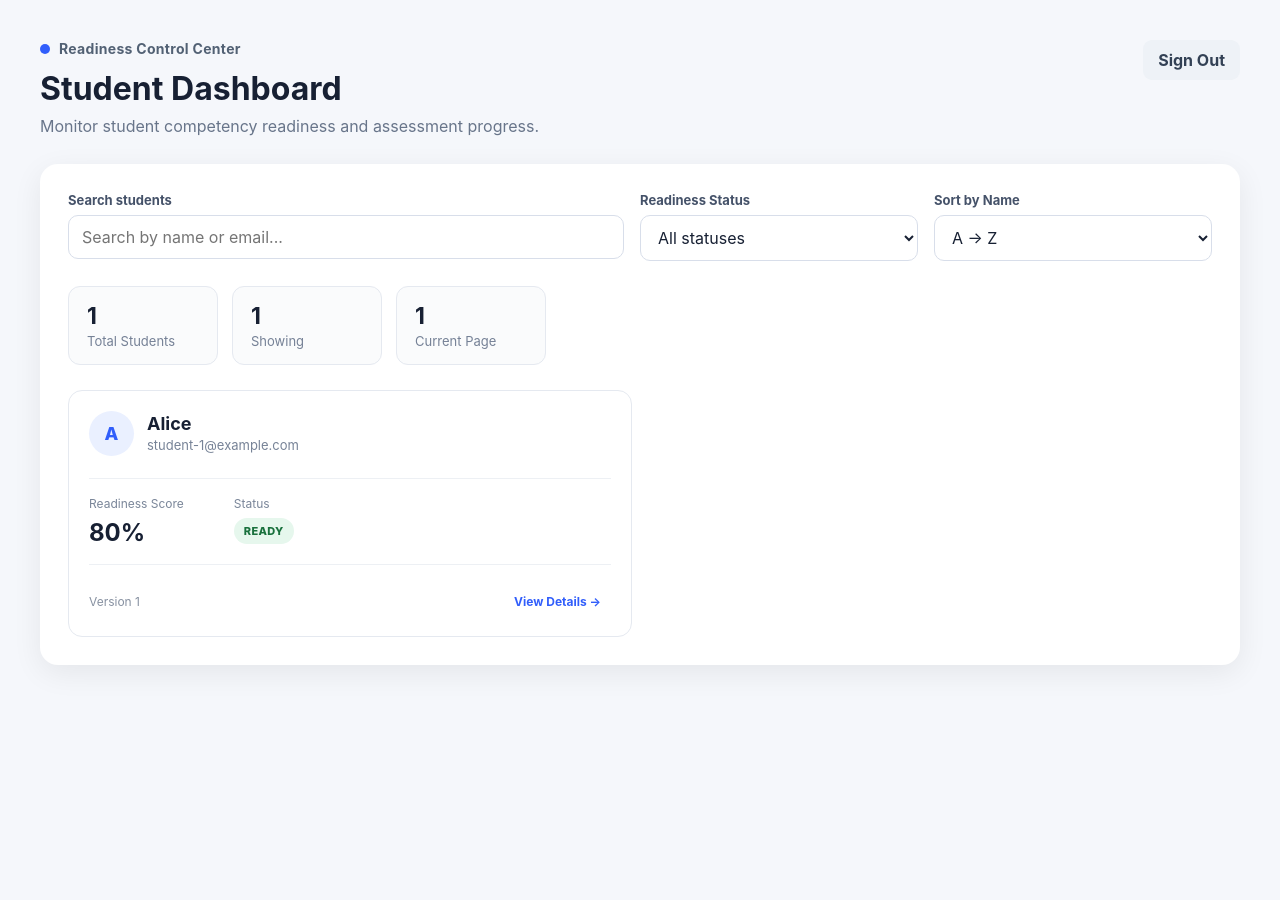
Test: Student Readiness Control Center frontend › prevents duplicate attempt submission while a request is in progress
(page scrolled)
Check: the heading "Alice" is shown, box [147,413,192,434]
Click the button "View Details →". click: point(558, 601)
box: [504,587,611,616]
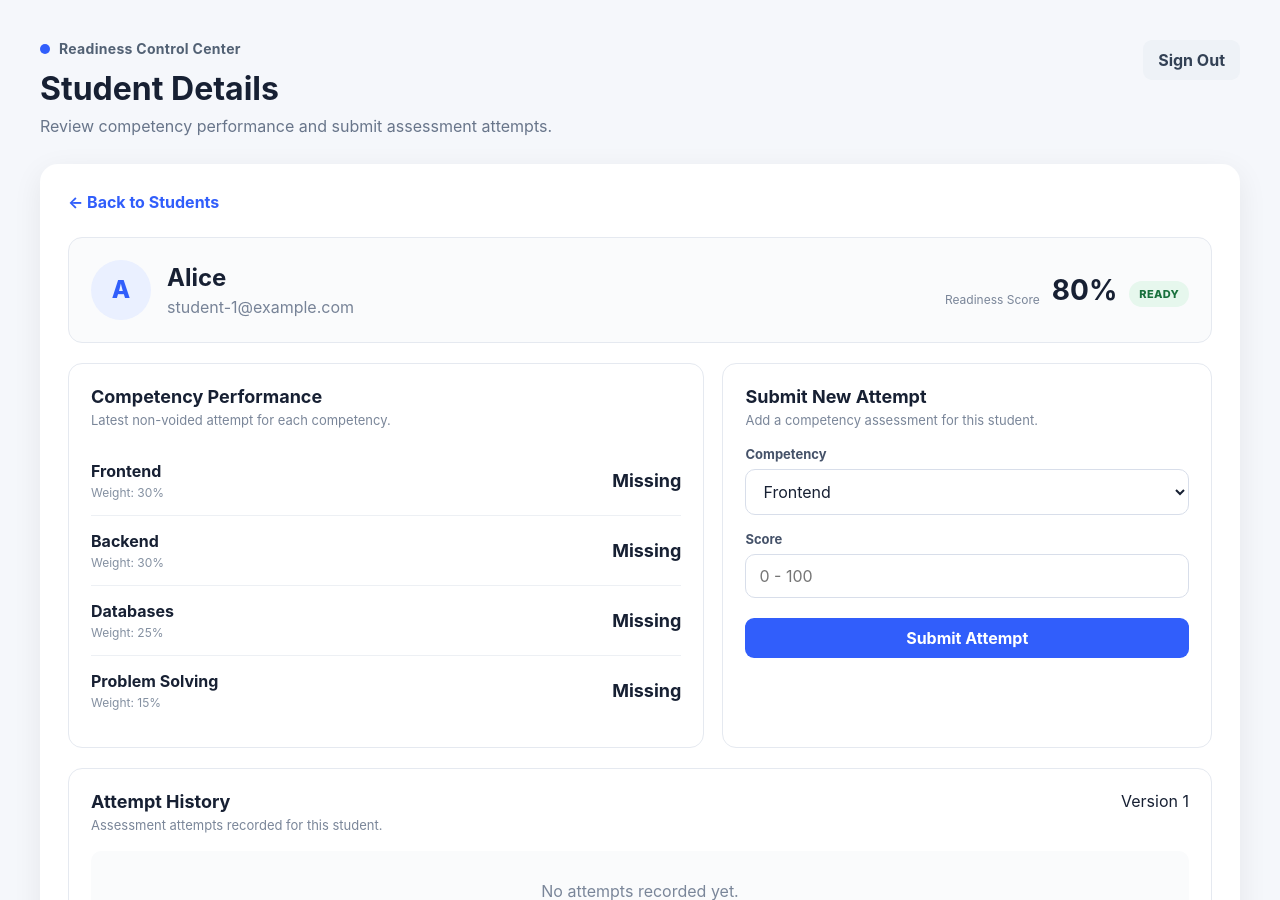
Type "85" into the number field labelled "Score". click: point(967, 576)
box: [745,554,1189,598]
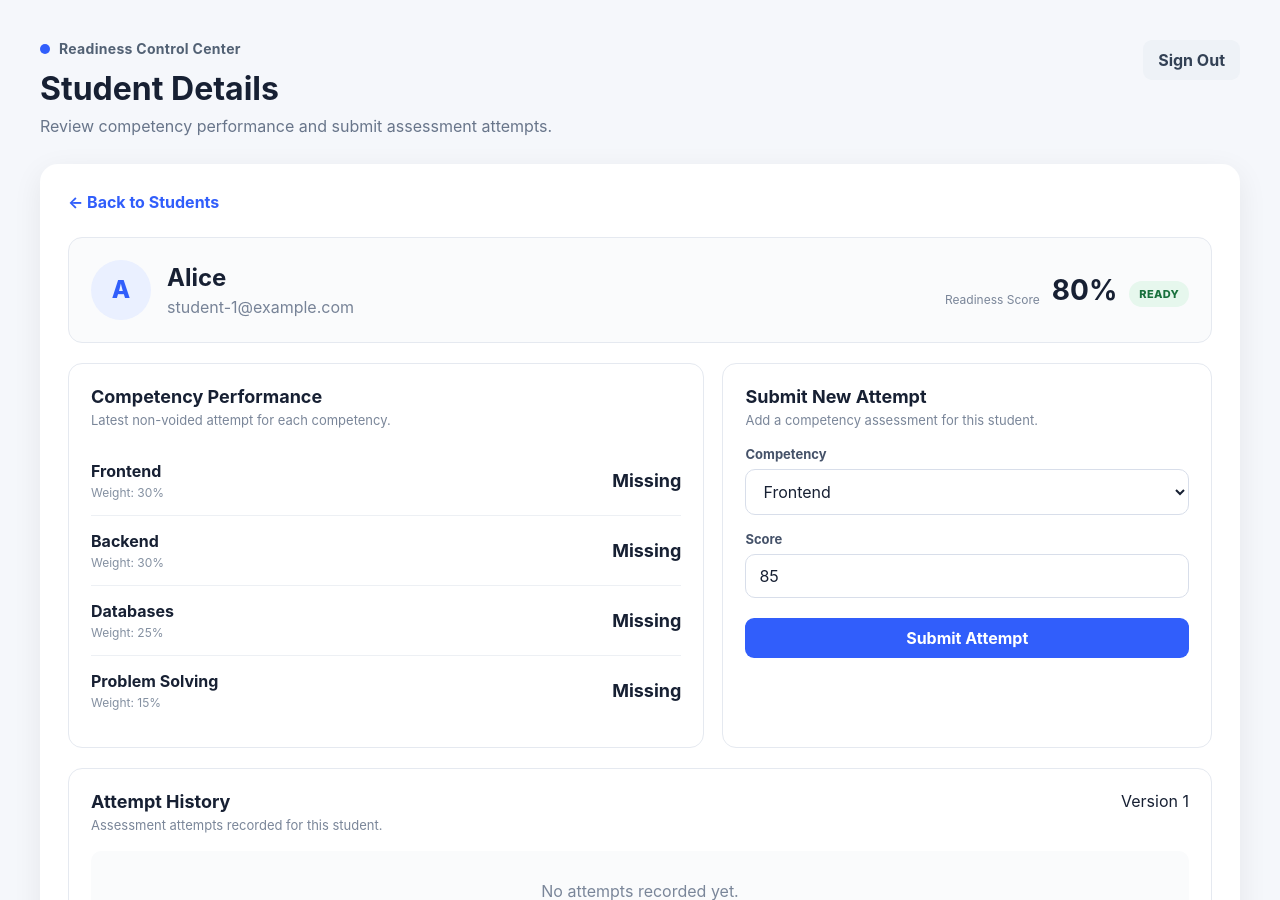
Click the button "Submit Attempt". click: point(967, 638)
box: [745,618,1189,658]
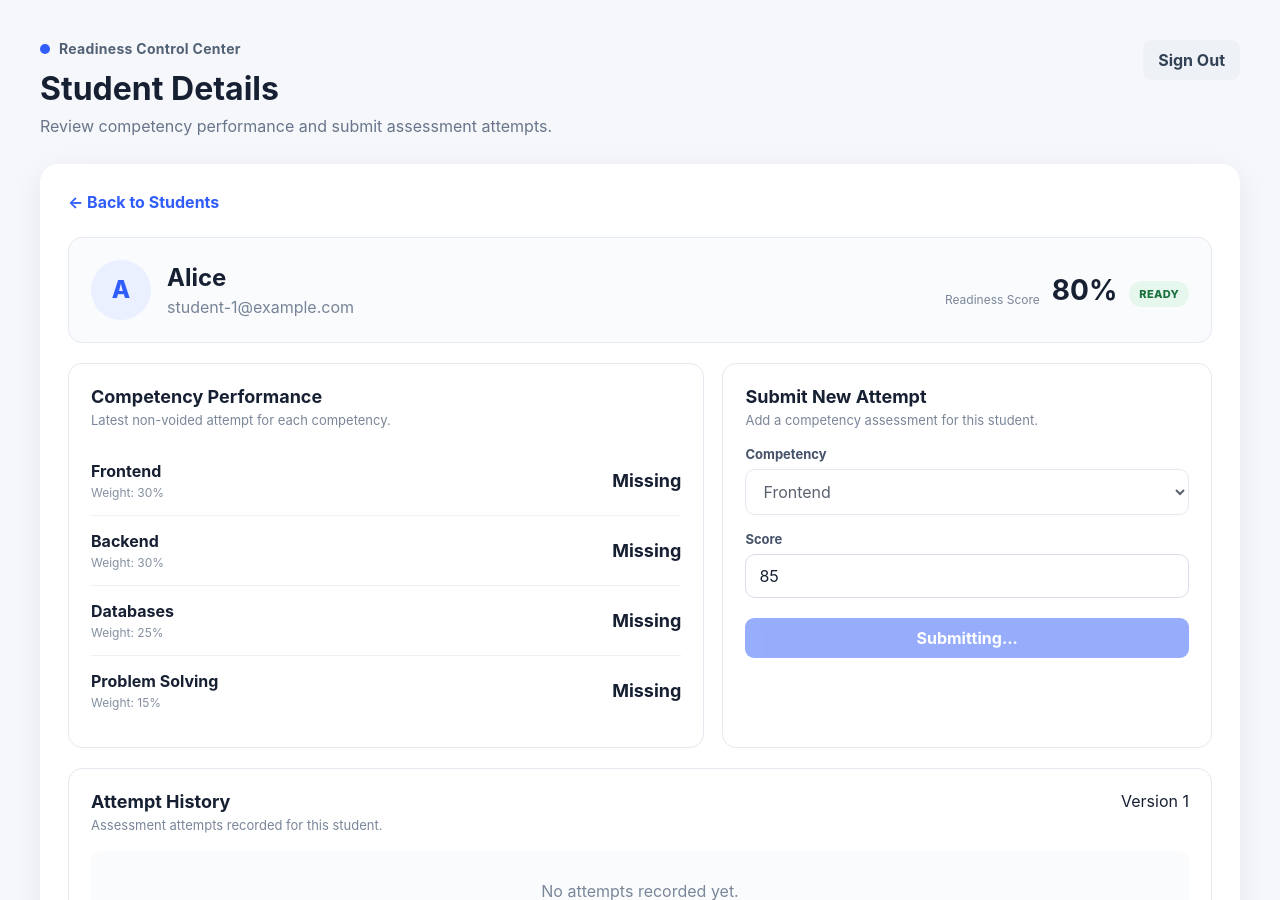
Check: the button "Submitting..." is disabled
A second click must not create another request.
Click the button "Submitting...". click: point(967, 638)
box: [745,618,1189,658]
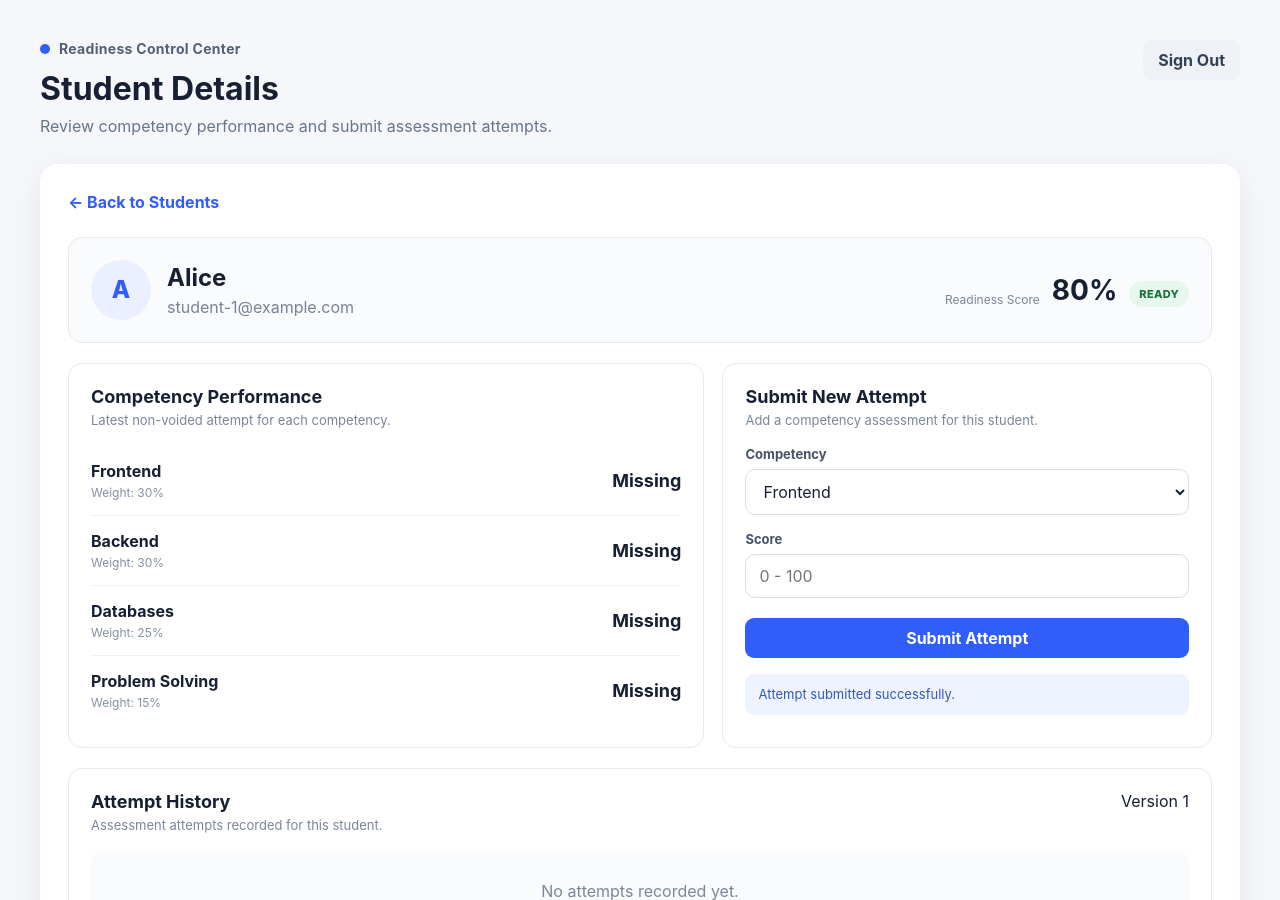
Check: the text "Attempt submitted successfully." is shown, box [745,674,1189,715]
